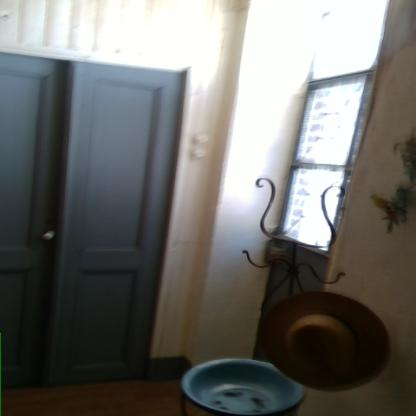closed: (0, 41, 191, 399)
